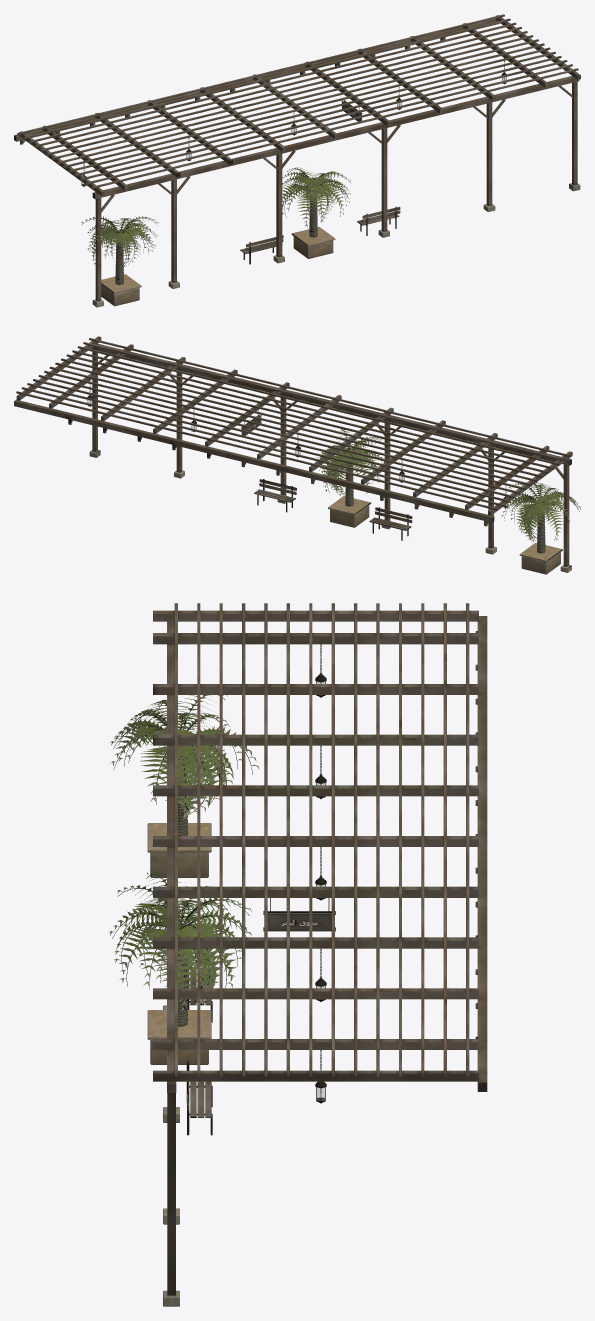
File: souq_street_m.glb
3 views of the same model, one above another, from view 1: azimuth 30°, elevation 25°; view 2: azimuth 150°, elevation 25°; view 3: azimuth 270°, elevation 25° (orthographic). The views are drawn at different scales.
Visible parts, largest first — view 1: GX_street_LOD0; view 2: GX_street_LOD0; view 3: GX_street_LOD0.
Boxes of the visible parts, box(x1,y1,x2,y2) form: GX_street_LOD0: box(14, 14, 580, 307); GX_street_LOD0: box(14, 336, 580, 574); GX_street_LOD0: box(108, 603, 487, 1306).
Size of what is drawn, in the model's own units: 21.09 by 4.86 by 7.12.
Materials: 3 (1 with a texture image).
